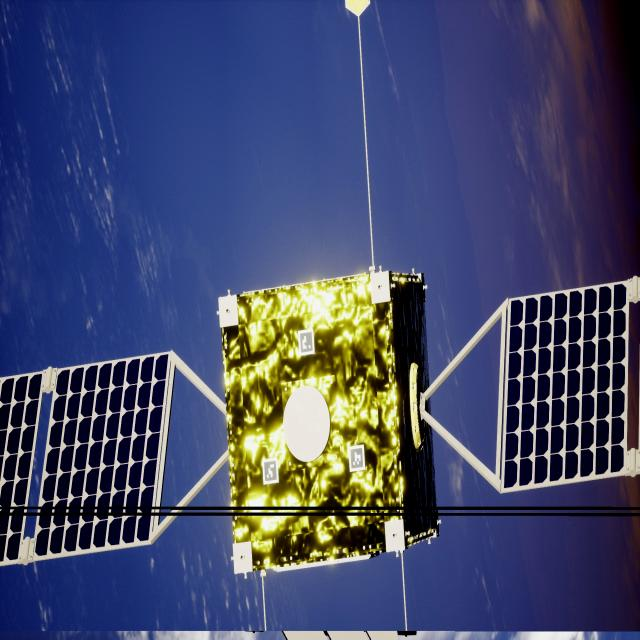satellite: (0, 270, 640, 575)
